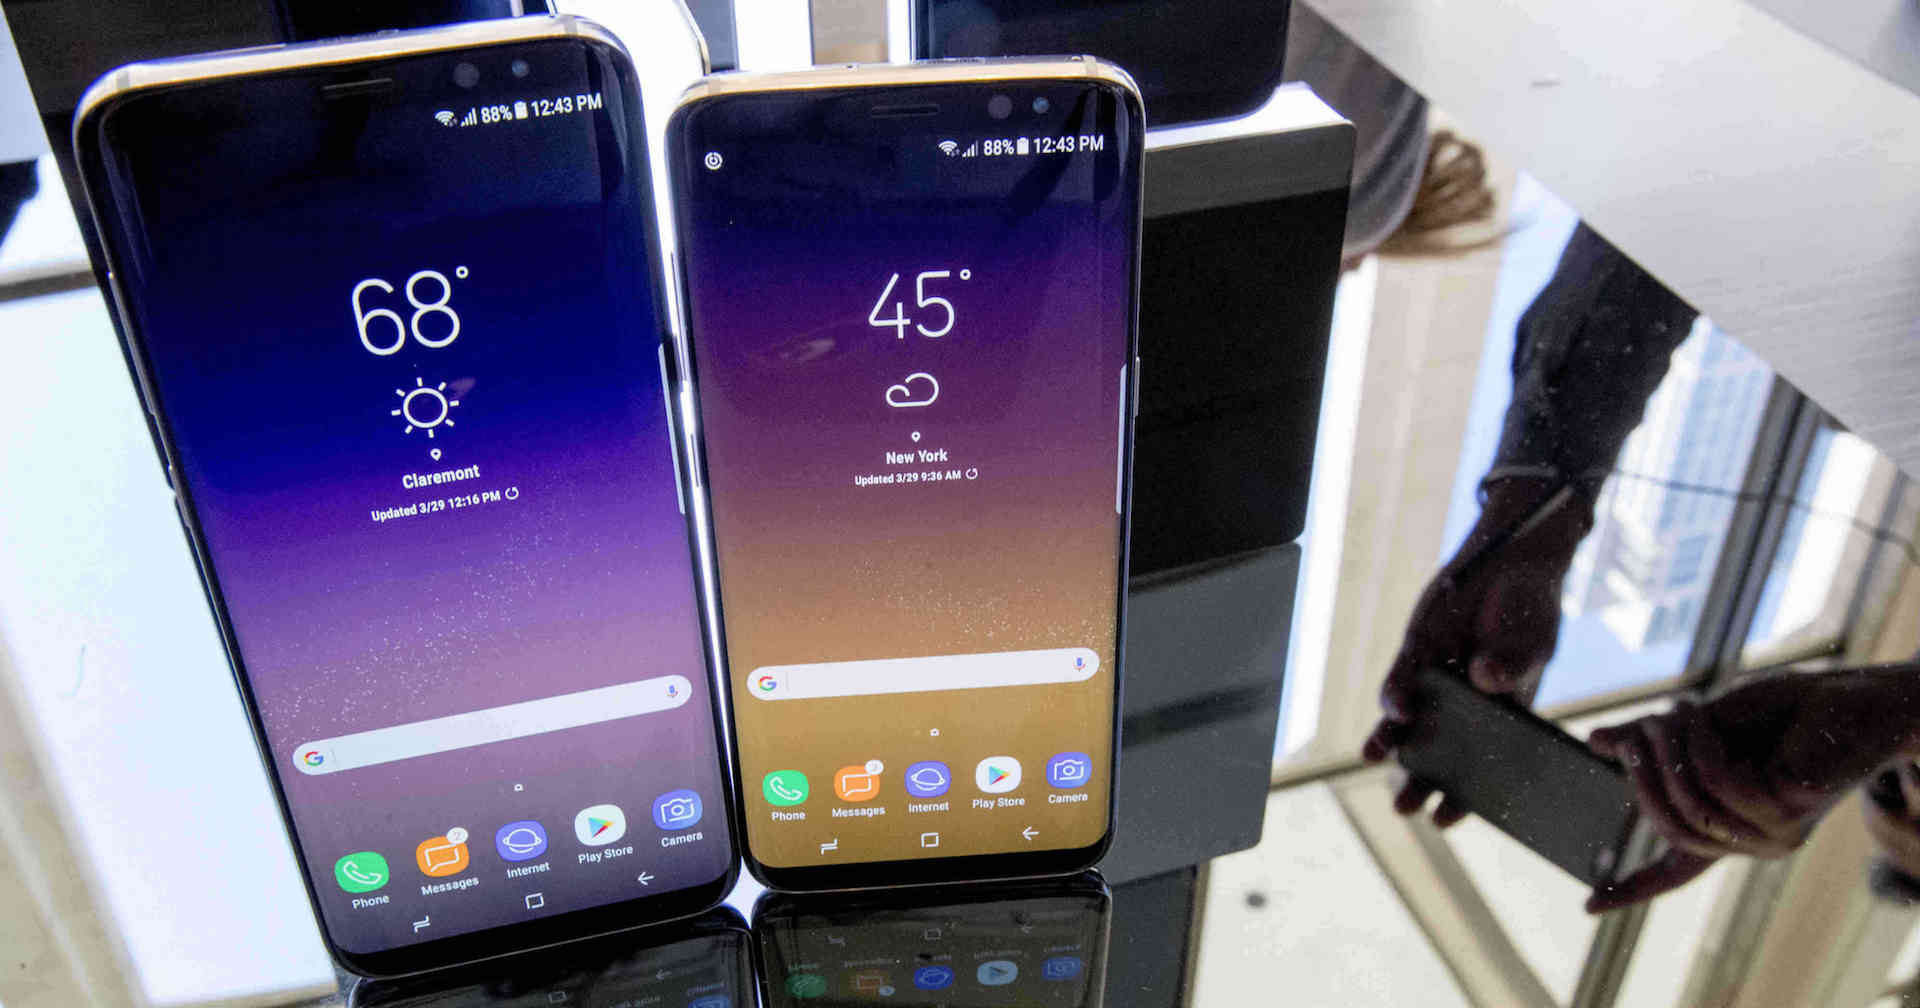smartphone: (75, 11, 742, 983), (665, 41, 1152, 904)
